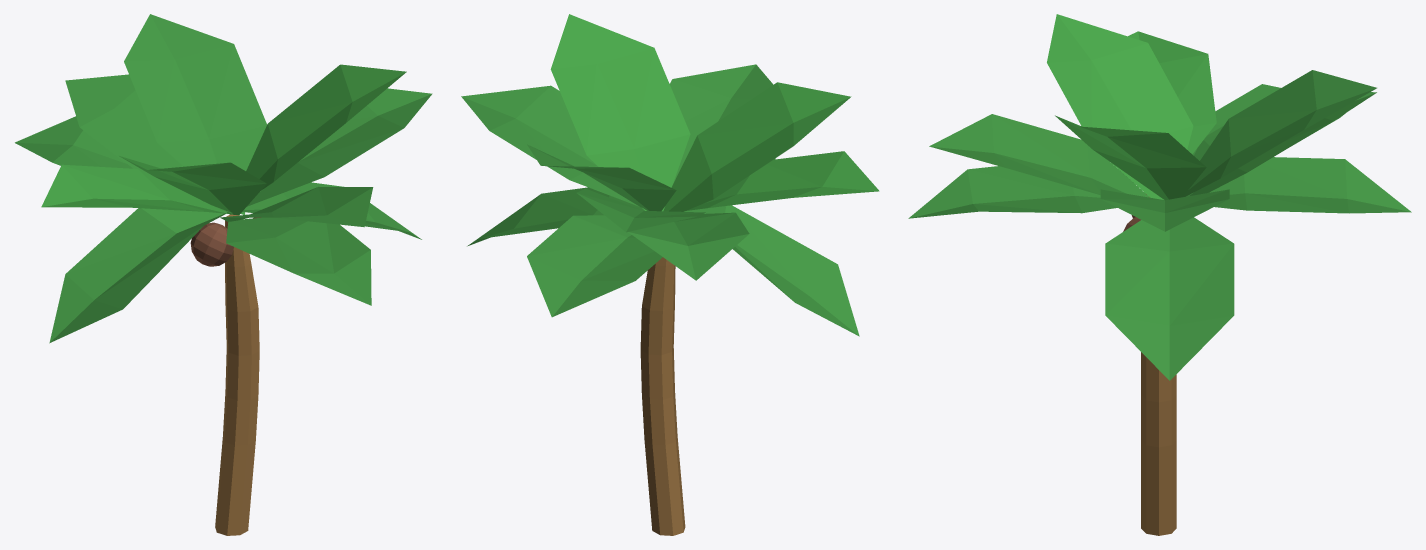
Rendered from coqueiro.glb.
The picture shows the model from 3 angles, left to right: view 1: azimuth 30°, elevation 25°; view 2: azimuth 150°, elevation 25°; view 3: azimuth 270°, elevation 25°; orthographic projection. The views are drawn at different scales.
Parts seen in each view (by area): view 1: Plano (cópia 2) (cópia 2), Plano (cópia), Tronco, Plano (cópia) (cópia), Plano (cópia) (cópia) (cópia), Plano (cópia 2) (cópia) (cópia), Plano (cópia 3), Plano (cópia) (cópia 2), Plano (cópia) (cópia) (cópia) (cópia), Plano (cópia) (cópia) (cópia 2), Plano (cópia 2) (cópia), Coco 1 (+1 smaller); view 2: Plano (cópia) (cópia) (cópia), Plano (cópia) (cópia) (cópia) (cópia), Tronco, Plano (cópia 2), Plano (cópia 3), Plano (cópia), Plano (cópia) (cópia 2), Plano (cópia 2) (cópia), Plano (cópia) (cópia) (cópia 2), Plano, Plano (cópia 2) (cópia 2), Plano (cópia 2) (cópia) (cópia); view 3: Plano, Plano (cópia) (cópia) (cópia) (cópia), Plano (cópia) (cópia) (cópia 2), Plano (cópia 2) (cópia 2), Plano (cópia 2), Plano (cópia) (cópia), Tronco, Plano (cópia) (cópia) (cópia), Plano (cópia) (cópia 2), Plano (cópia 3), Plano (cópia 2) (cópia) (cópia), Plano (cópia 2) (cópia).
Boxes of the visible parts, x1=… form: Plano (cópia 2) (cópia 2): x1=124, y1=14, x2=266, y2=170; Plano (cópia): x1=49, y1=208, x2=228, y2=343; Tronco: x1=215, y1=214, x2=259, y2=535; Plano (cópia) (cópia): x1=226, y1=217, x2=371, y2=305; Plano (cópia) (cópia) (cópia): x1=246, y1=64, x2=406, y2=190; Plano (cópia 2) (cópia) (cópia): x1=65, y1=74, x2=245, y2=214; Plano (cópia 3): x1=247, y1=88, x2=432, y2=206; Plano (cópia) (cópia 2): x1=41, y1=164, x2=228, y2=213; Plano (cópia) (cópia) (cópia) (cópia): x1=119, y1=156, x2=266, y2=214; Plano (cópia) (cópia) (cópia 2): x1=220, y1=186, x2=373, y2=227; Plano (cópia 2) (cópia): x1=15, y1=116, x2=229, y2=212; Coco 1: x1=190, y1=222, x2=233, y2=266; Plano (cópia) (cópia) (cópia): x1=550, y1=14, x2=690, y2=211; Plano (cópia) (cópia) (cópia) (cópia): x1=663, y1=82, x2=851, y2=211; Tronco: x1=640, y1=257, x2=685, y2=535; Plano (cópia 2): x1=527, y1=215, x2=662, y2=317; Plano (cópia 3): x1=461, y1=85, x2=639, y2=206; Plano (cópia): x1=684, y1=205, x2=859, y2=336; Plano (cópia) (cópia 2): x1=686, y1=151, x2=879, y2=210; Plano (cópia 2) (cópia): x1=628, y1=212, x2=749, y2=280; Plano (cópia) (cópia) (cópia 2): x1=669, y1=64, x2=773, y2=184; Plano: x1=467, y1=187, x2=644, y2=246; Plano (cópia 2) (cópia 2): x1=527, y1=144, x2=676, y2=211; Plano (cópia 2) (cópia) (cópia): x1=576, y1=188, x2=705, y2=232; Plano: x1=1105, y1=217, x2=1234, y2=380; Plano (cópia) (cópia) (cópia) (cópia): x1=1047, y1=14, x2=1193, y2=199; Plano (cópia) (cópia) (cópia 2): x1=929, y1=114, x2=1149, y2=197; Plano (cópia 2) (cópia 2): x1=1182, y1=70, x2=1376, y2=197; Plano (cópia 2): x1=1209, y1=157, x2=1411, y2=213; Plano (cópia) (cópia): x1=908, y1=166, x2=1117, y2=218; Tronco: x1=1141, y1=352, x2=1176, y2=535; Plano (cópia) (cópia) (cópia): x1=1055, y1=115, x2=1206, y2=200; Plano (cópia) (cópia 2): x1=1128, y1=31, x2=1216, y2=154; Plano (cópia 3): x1=1100, y1=189, x2=1229, y2=231; Plano (cópia 2) (cópia) (cópia): x1=1186, y1=92, x2=1376, y2=196; Plano (cópia 2) (cópia): x1=1192, y1=84, x2=1345, y2=155.
Bounding box in the file's own units: 3.14 × 3.35 × 3.24.
15 materials, 1 textured.
